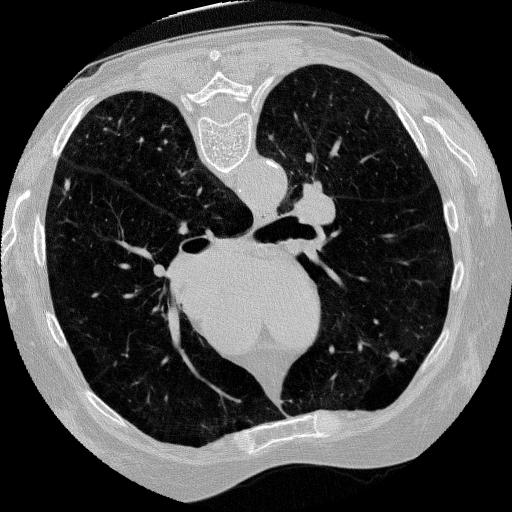nodule: (58, 178, 75, 195)
